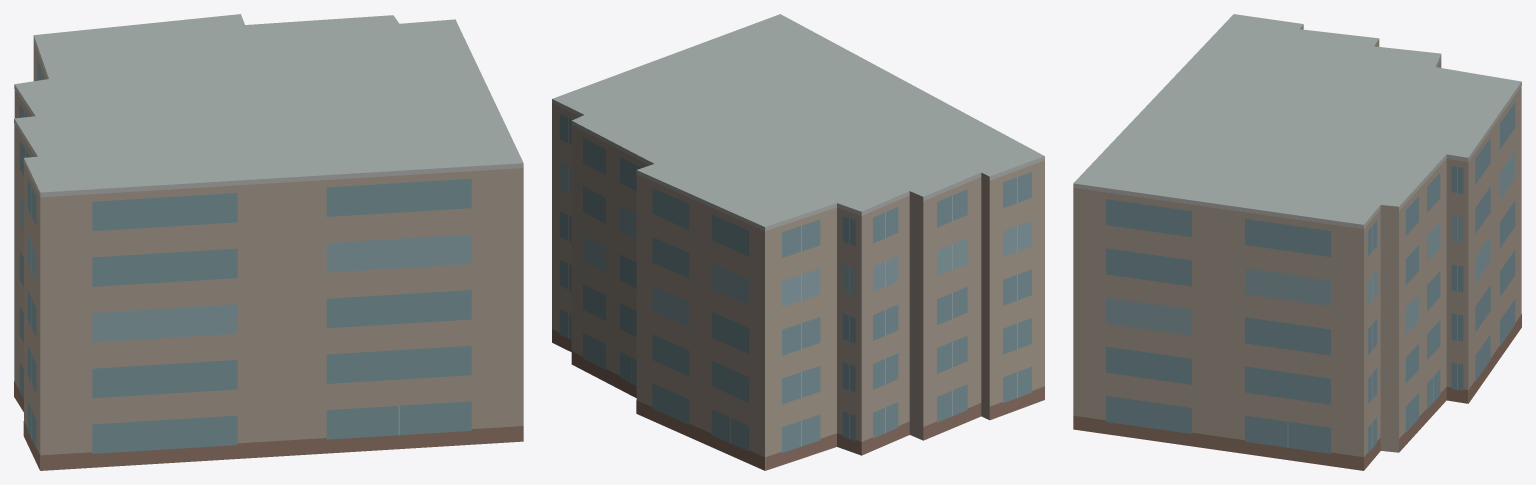
The model's file is survey-upis-32669861.glb.
The picture shows the model from 3 angles, left to right: view 1: azimuth 30°, elevation 25°; view 2: azimuth 150°, elevation 25°; view 3: azimuth 270°, elevation 25°; orthographic projection. The views are drawn at different scales.
Parts seen in each view (by area): view 1: survey-upis-32669861.tmp; view 2: survey-upis-32669861.tmp; view 3: survey-upis-32669861.tmp.
Boxes of the visible parts, left/top/right/bottom form: survey-upis-32669861.tmp: left=14, top=14, right=523, bottom=470; survey-upis-32669861.tmp: left=552, top=14, right=1044, bottom=470; survey-upis-32669861.tmp: left=1073, top=14, right=1521, bottom=470.
Size of the model in its own units: 25.93 by 14.1 by 23.31.
